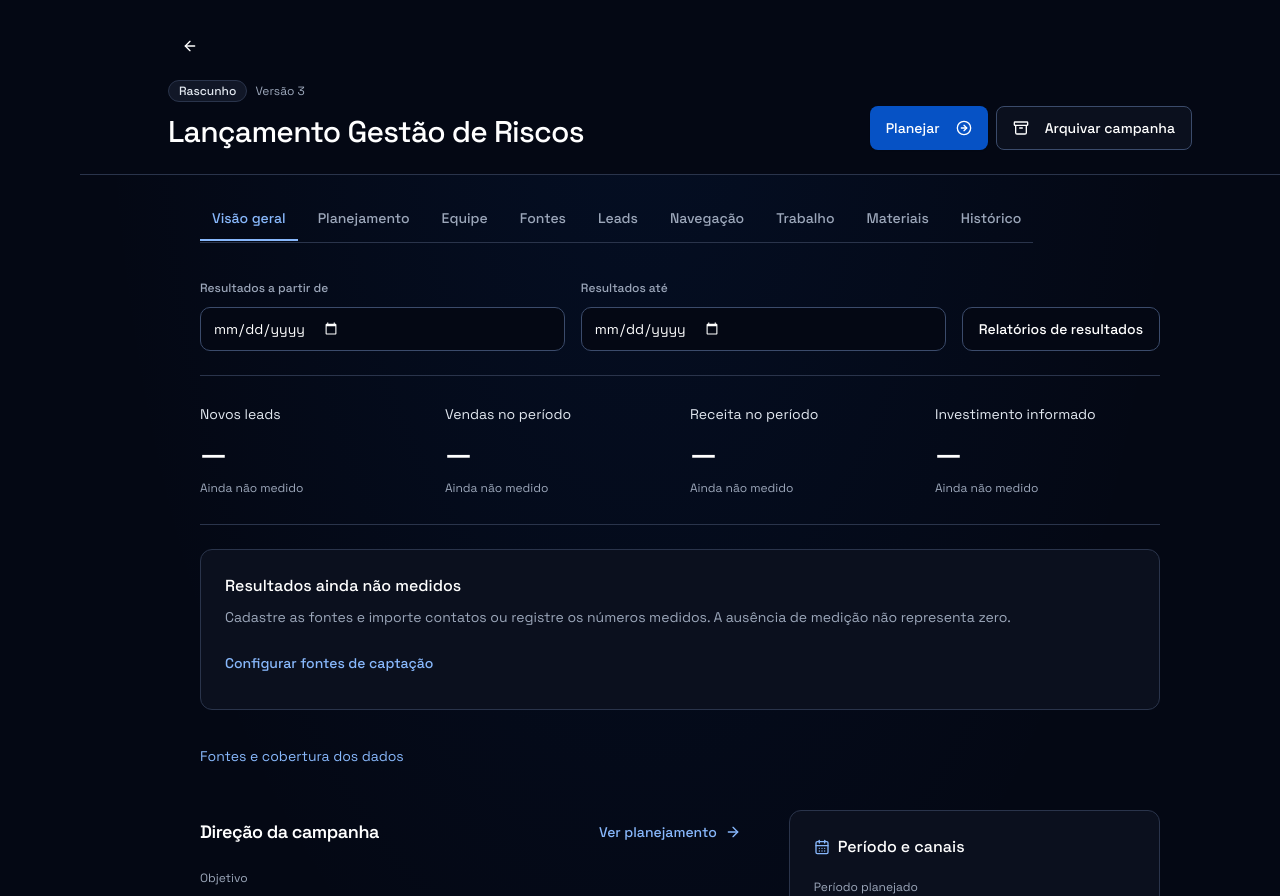
Test: CampaignWorkspacePage › explains missing planning requirements and returns to the first missing field without losing saved text
The image size is (1280, 896).
Step 1. Click the button "Planejar" → x=929, y=128, box left=870, top=106, right=988, bottom=150
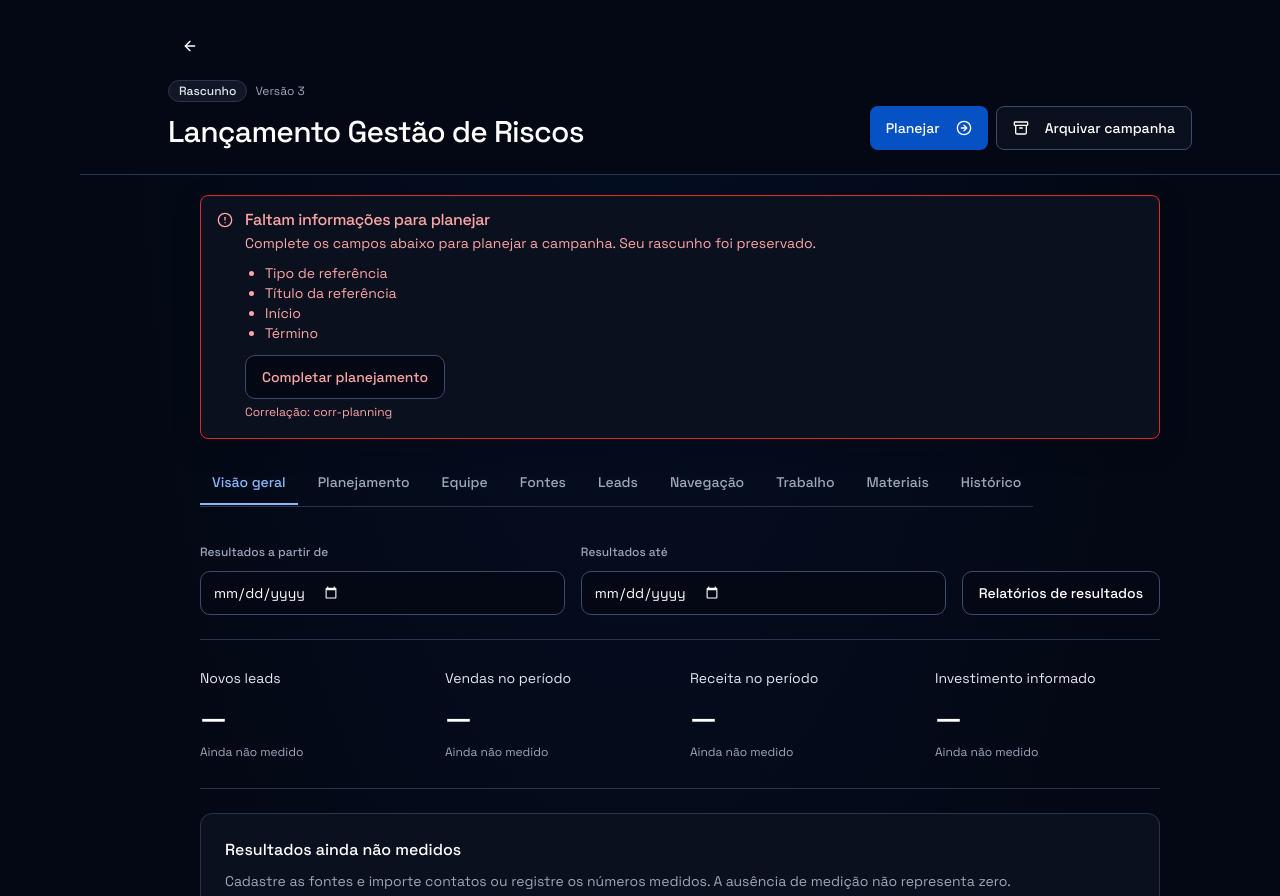
Now the message shows "Complete os campos abaixo para planejar a campanha. Seu rascunho foi preservado.", box left=245, top=234, right=816, bottom=252
Now the message shows "Tipo de referência", box left=265, top=264, right=388, bottom=282
Now the message shows "Título da referência", box left=265, top=284, right=397, bottom=302
Step 2. Click the button "Completar planejamento" → x=345, y=377, box left=245, top=355, right=445, bottom=399
(page scrolled)
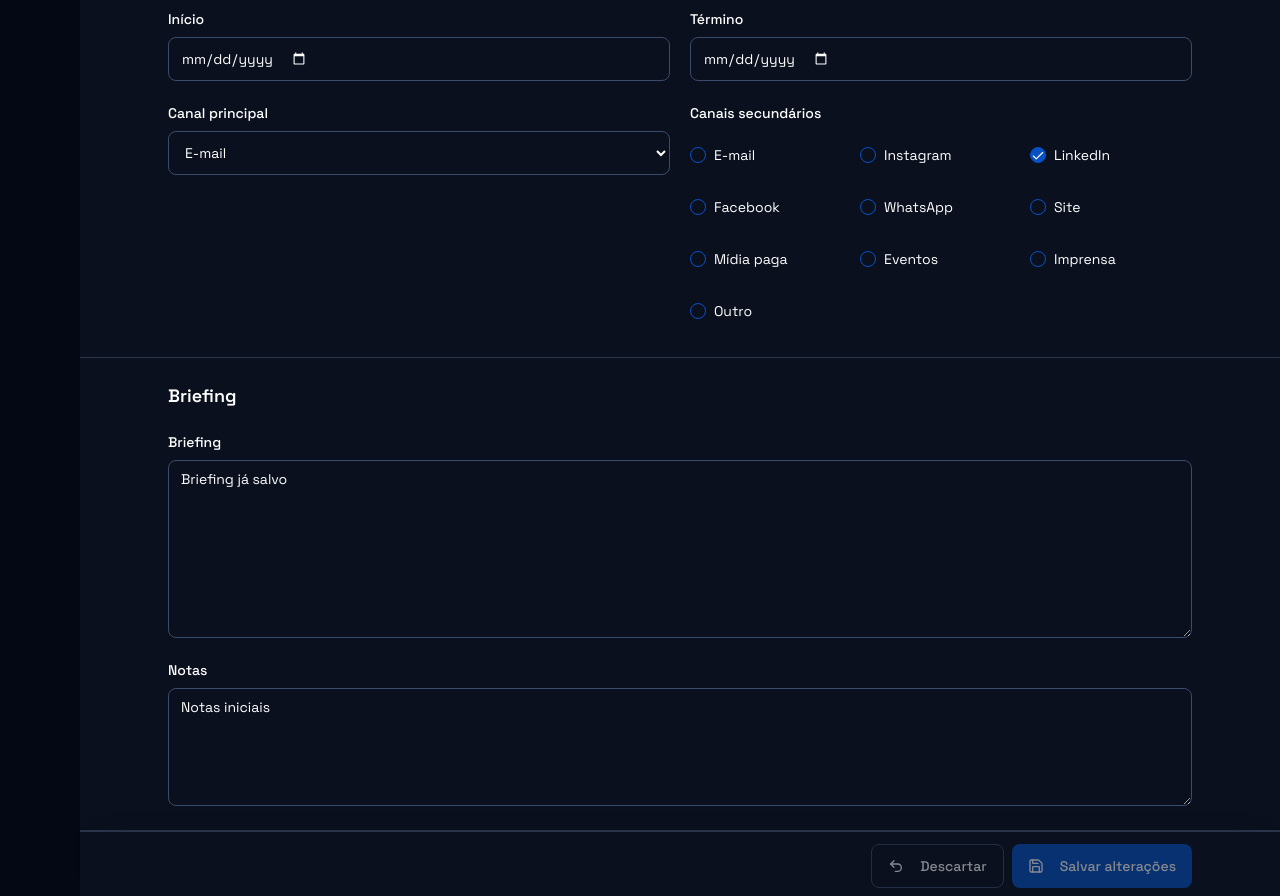
Now the text box labelled "Briefing" holds "Briefing já salvo", box left=168, top=460, right=1192, bottom=638
